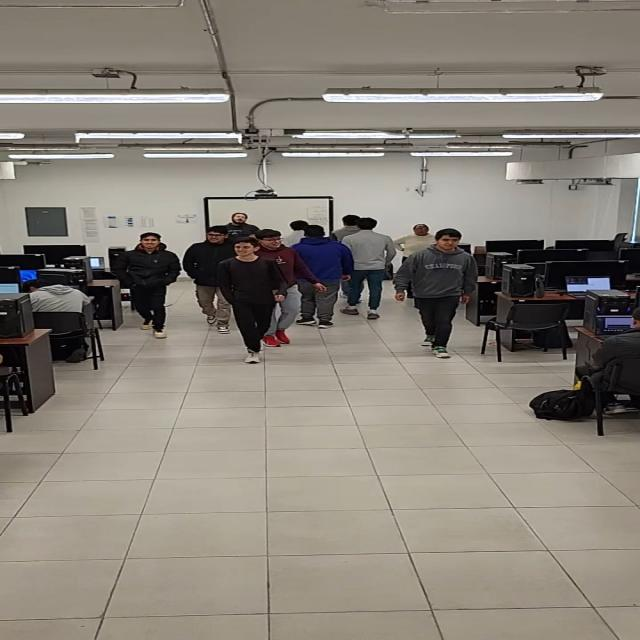Persona: (392, 228, 480, 359), (248, 227, 329, 348), (217, 235, 288, 364), (111, 232, 182, 339), (286, 225, 354, 329), (182, 225, 238, 335), (339, 217, 395, 321), (393, 224, 442, 262), (223, 212, 262, 240), (282, 220, 310, 247), (334, 215, 363, 240)
